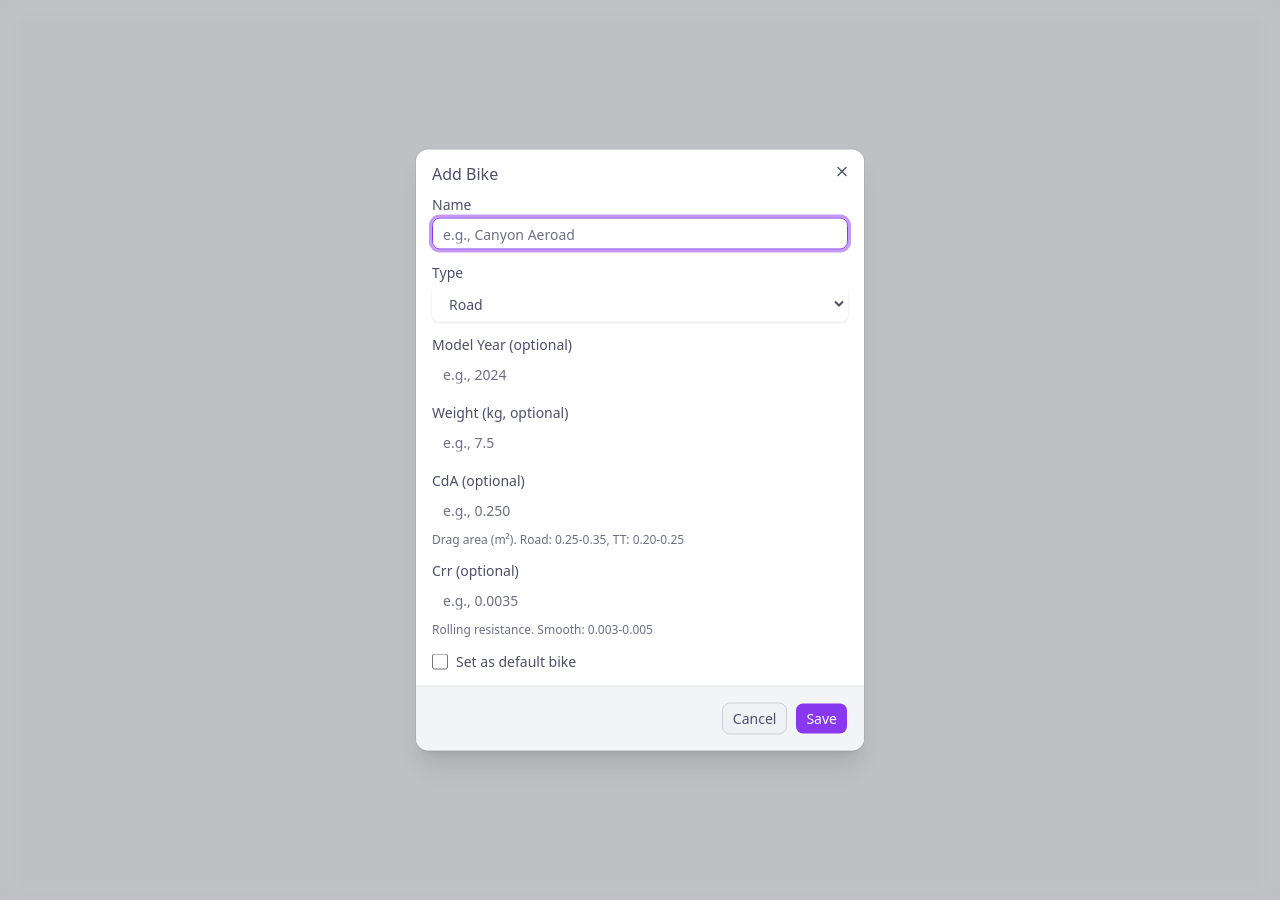
BikeForm › validates CdA range
The width and height of the screenshot is (1280, 900).
Step 1. Type "Test Bike" into the field labelled "Name" → {"x": 640, "y": 234}, box top-left (432, 218), bottom-right (848, 250)
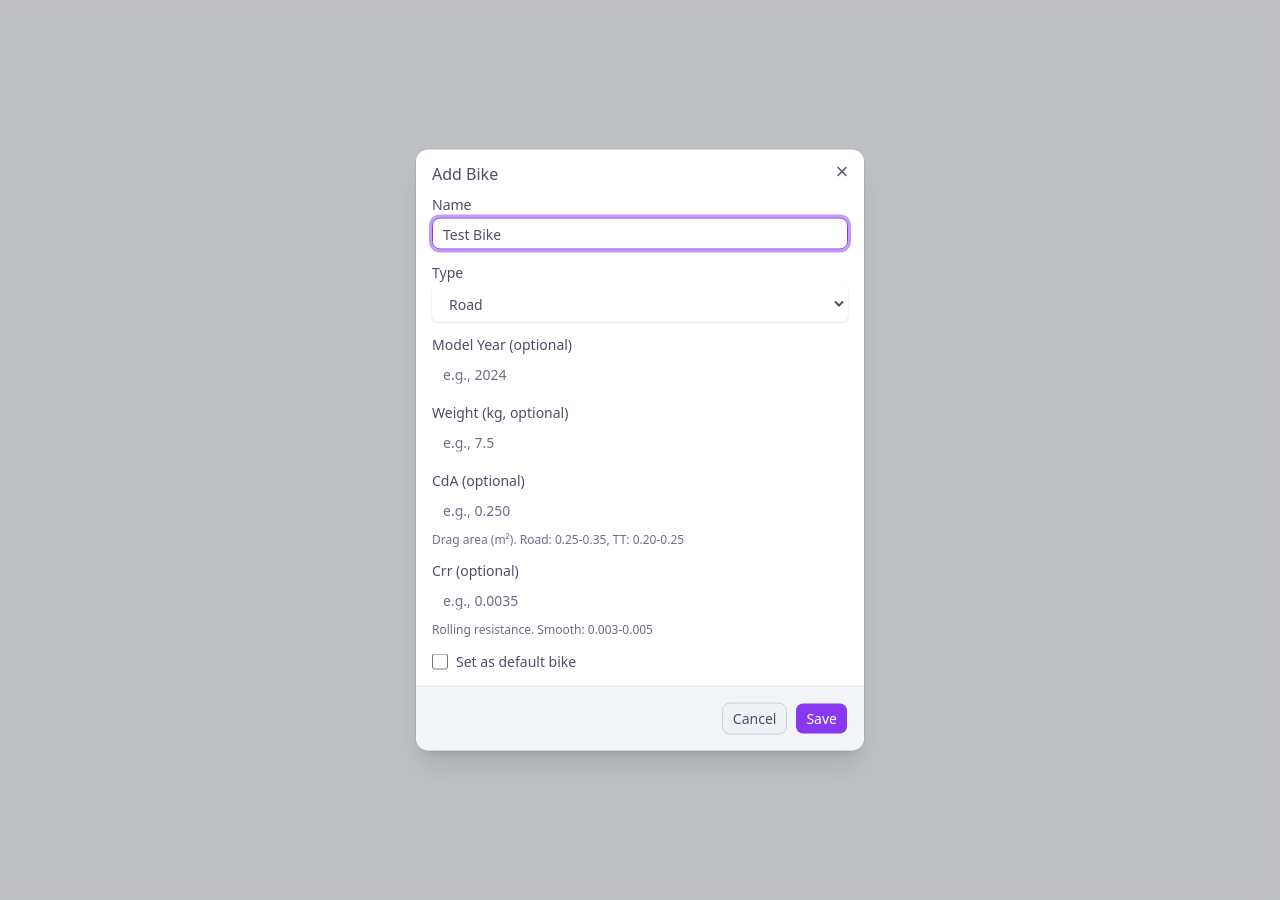
Step 2. Type "2" into the number field labelled "CdA (optional)" → {"x": 640, "y": 510}, box top-left (432, 494), bottom-right (848, 526)
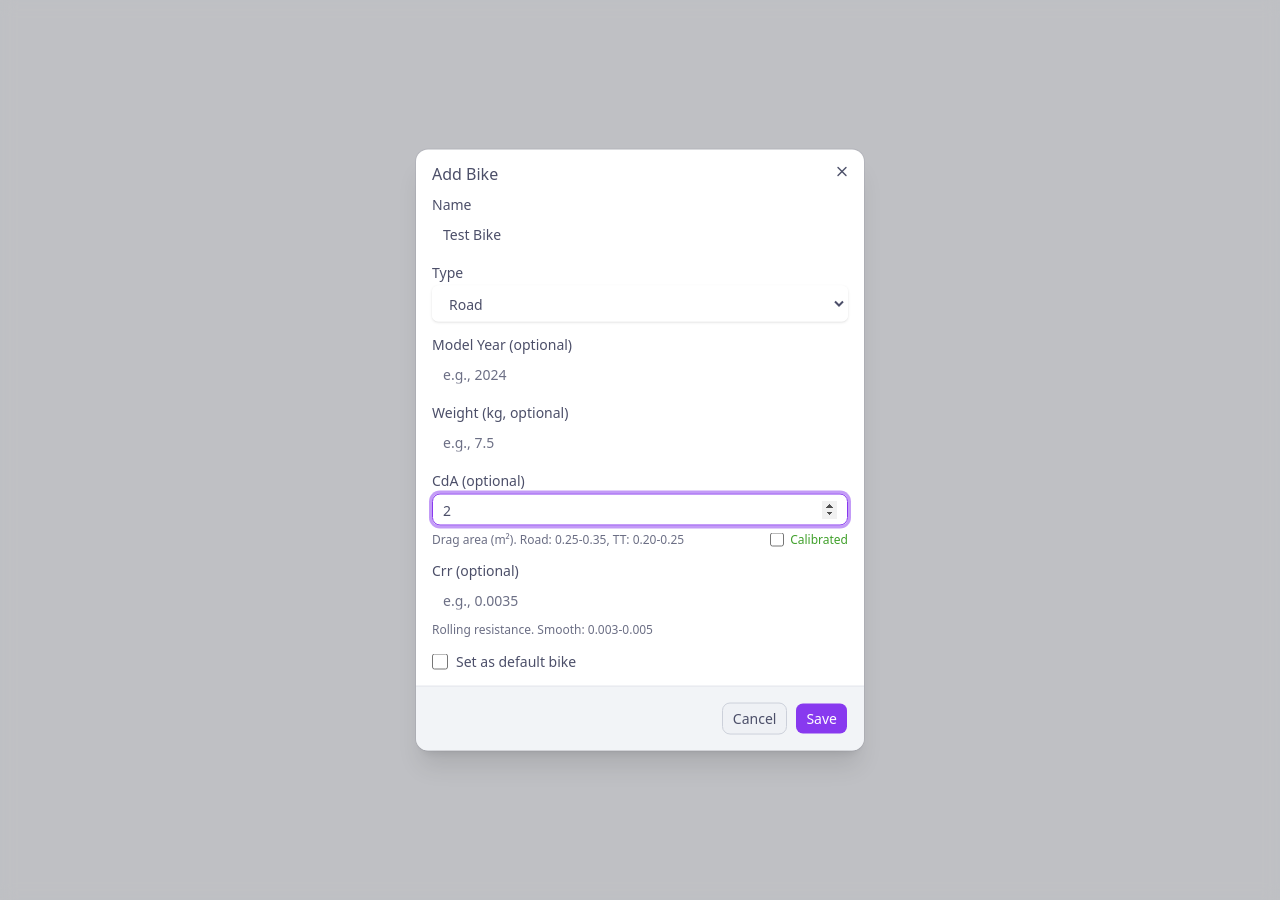
Step 3. Click the button "Save" → {"x": 822, "y": 718}, box top-left (795, 702), bottom-right (848, 734)
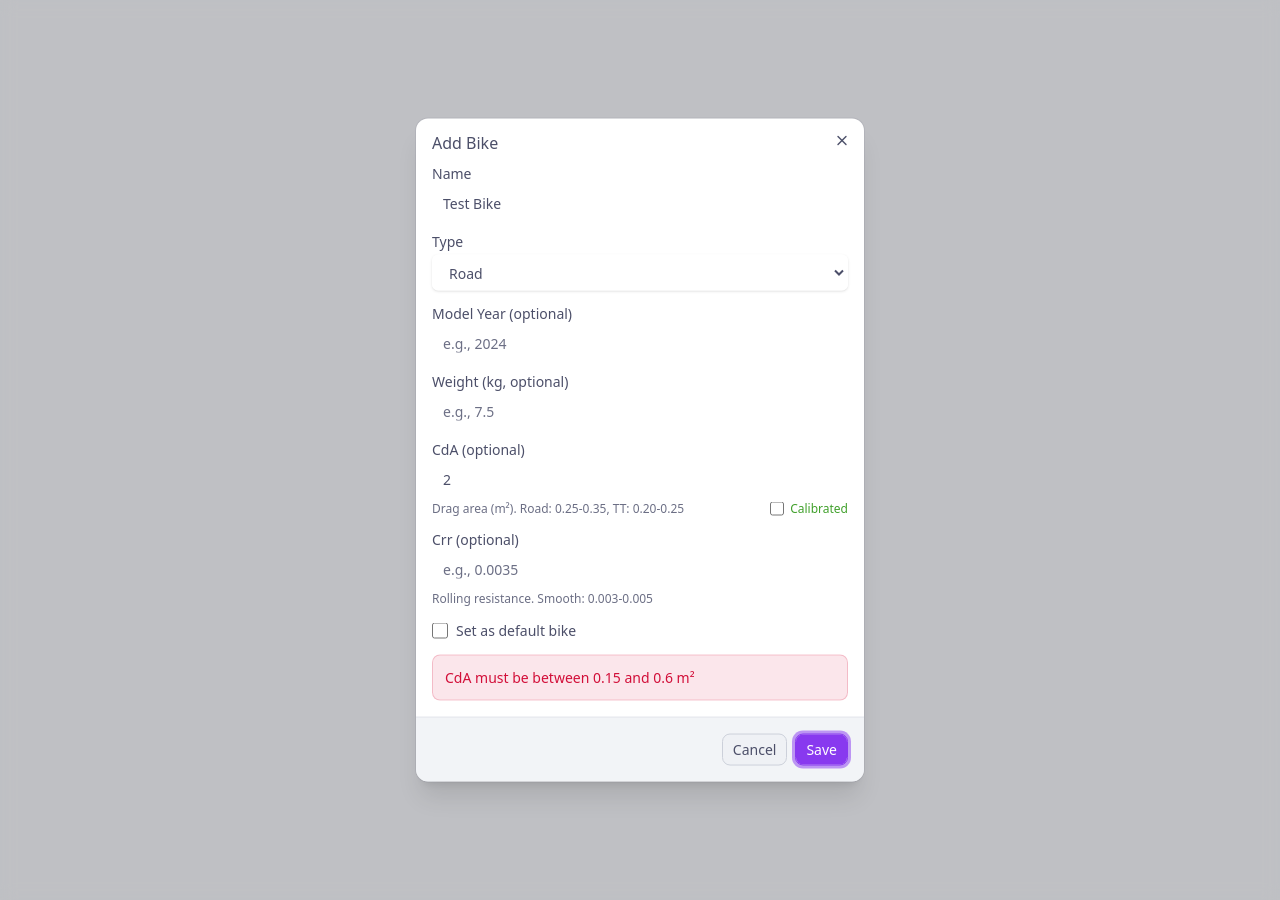
Expected: the text "CdA must be between 0.15 and 0.6 m²" is shown, top-left (432, 654), bottom-right (848, 700)
